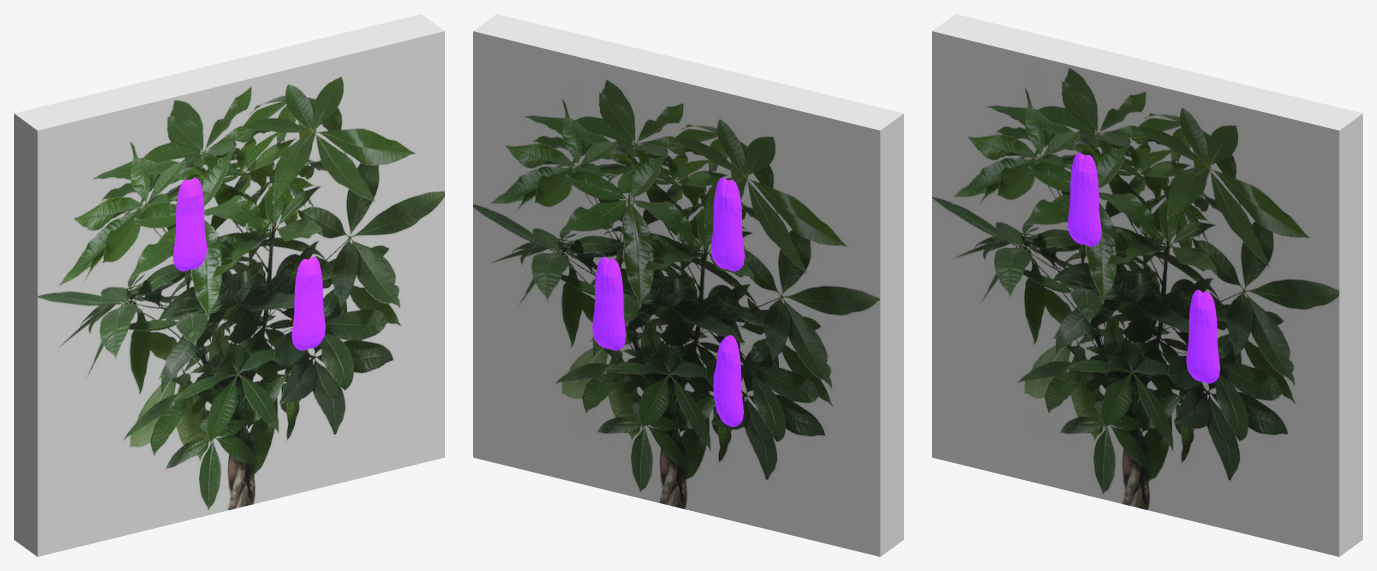
The model's file is eggplant_4.dae.
The picture shows the model from 3 angles, left to right: view 1: azimuth 30°, elevation 25°; view 2: azimuth 150°, elevation 25°; view 3: azimuth 330°, elevation 25°; orthographic projection.
Parts seen in each view (by area): view 1: Cube, Sphere, Sphere.001; view 2: Cube, Sphere, Sphere.001, Sphere.002; view 3: Cube, Sphere, Sphere.001.
Boxes of the visible parts, <box> form: Cube: <box>14,14,444,556</box>; Sphere: <box>173,177,206,271</box>; Sphere.001: <box>291,256,325,350</box>; Cube: <box>473,14,903,556</box>; Sphere: <box>711,177,744,271</box>; Sphere.001: <box>592,256,626,350</box>; Sphere.002: <box>713,335,743,426</box>; Cube: <box>932,14,1362,556</box>; Sphere: <box>1067,152,1101,246</box>; Sphere.001: <box>1186,289,1220,383</box>.
Size of the model in its own units: 1 by 0.1301 by 1.
Materials: 2 (1 with a texture image).
